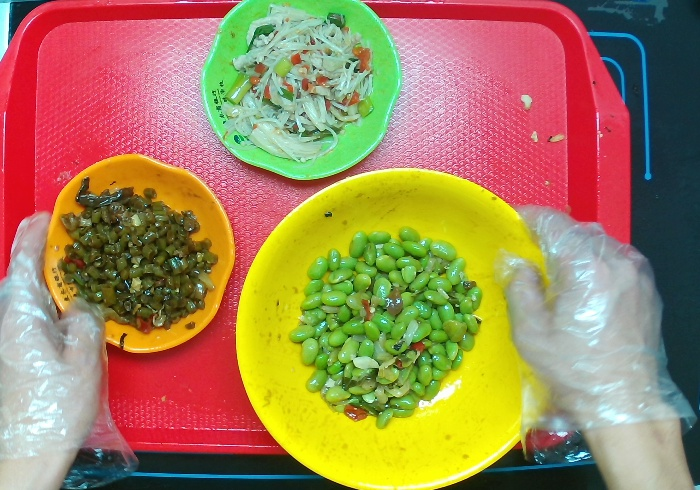YKMZ-Huang_Se_Tang_Wan: (230, 168, 552, 490)
YKMZ-Ju_Se_Ao_Bian_Wan: (39, 152, 236, 360)
YKMZ-Lv_Se_Ao_Bian_Wan: (198, 1, 401, 181)
